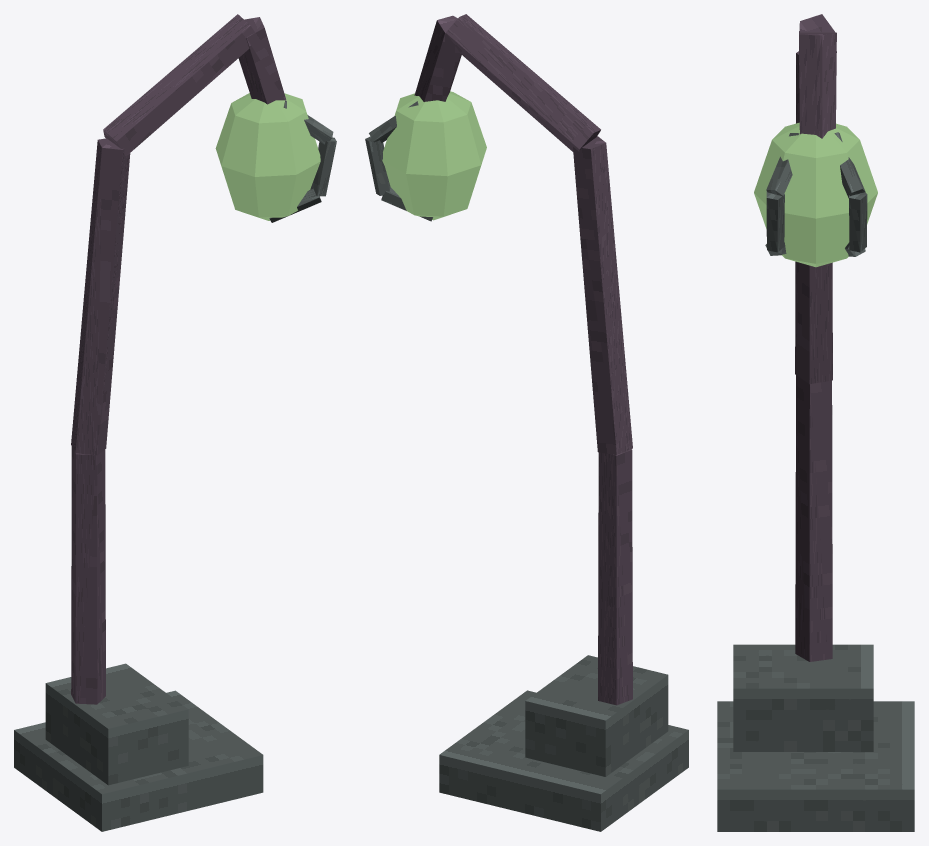
Rendered from f_nl_exodii_lamp.glb.
3 views of the same model, side by side, from view 1: azimuth 30°, elevation 25°; view 2: azimuth 150°, elevation 25°; view 3: azimuth 270°, elevation 25° (orthographic). The views are drawn at different scales.
Visible parts, largest first — view 1: block_area-light-foot, block_nether-lamp-ballast, block_curved-grown-metal-standard-2, block_green-glowing-bulb, block_curved-grown-metal-standard-1, block_curved-grown-metal-standard-3, block_curved-grown-metal-standard-4, block_grown-metal-bulb-guard-2; view 2: block_area-light-foot, block_nether-lamp-ballast, block_curved-grown-metal-standard-2, block_green-glowing-bulb, block_curved-grown-metal-standard-1, block_curved-grown-metal-standard-3, block_curved-grown-metal-standard-4, block_grown-metal-bulb-guard-2; view 3: block_area-light-foot, block_nether-lamp-ballast, block_curved-grown-metal-standard-1, block_green-glowing-bulb, block_curved-grown-metal-standard-2, block_curved-grown-metal-standard-4, block_grown-metal-bulb-guard-2 (×2), block_grown-metal-bulb-guard-1 (×2), block_curved-grown-metal-standard-3.
Part boxes in pixels (x1,y1,x2,y2): block_area-light-foot: (14, 690, 263, 831); block_nether-lamp-ballast: (45, 663, 188, 785); block_curved-grown-metal-standard-2: (71, 138, 130, 455); block_green-glowing-bulb: (215, 93, 320, 220); block_curved-grown-metal-standard-1: (71, 446, 105, 704); block_curved-grown-metal-standard-3: (103, 14, 254, 156); block_curved-grown-metal-standard-4: (238, 17, 286, 104); block_grown-metal-bulb-guard-2: (310, 137, 336, 196); block_area-light-foot: (439, 690, 688, 831); block_nether-lamp-ballast: (525, 655, 668, 776); block_curved-grown-metal-standard-2: (573, 136, 632, 454); block_green-glowing-bulb: (382, 91, 486, 220); block_curved-grown-metal-standard-1: (598, 449, 632, 705); block_curved-grown-metal-standard-3: (446, 14, 600, 151); block_curved-grown-metal-standard-4: (414, 15, 461, 101); block_grown-metal-bulb-guard-2: (365, 136, 390, 195); block_area-light-foot: (717, 701, 914, 831); block_nether-lamp-ballast: (733, 644, 873, 751); block_curved-grown-metal-standard-1: (795, 375, 832, 661); block_green-glowing-bulb: (754, 122, 877, 267); block_curved-grown-metal-standard-2: (795, 51, 832, 384); block_curved-grown-metal-standard-4: (799, 31, 836, 138); block_grown-metal-bulb-guard-2 (×2): (766, 191, 867, 252); block_grown-metal-bulb-guard-1 (×2): (766, 132, 865, 198); block_curved-grown-metal-standard-3: (799, 14, 836, 64).
Bounding box in the file's own units: 0.5628 × 1.53 × 0.33.
Materials: 2 (2 with a texture image).
